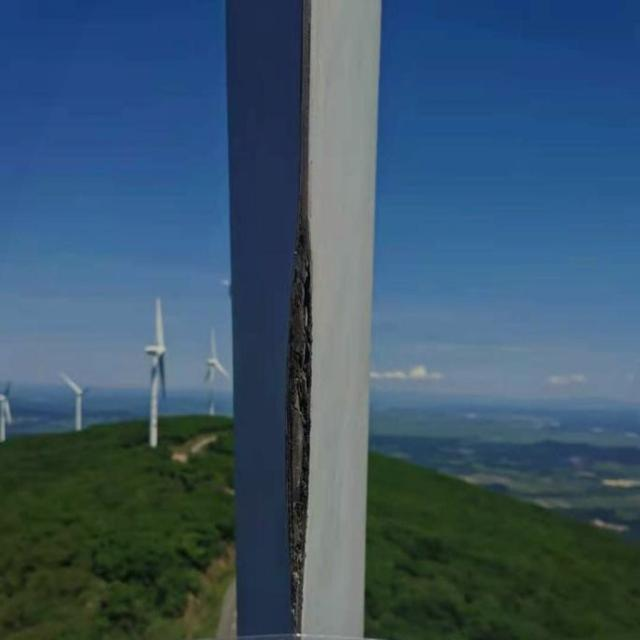corrosion: (289, 236, 314, 590)
